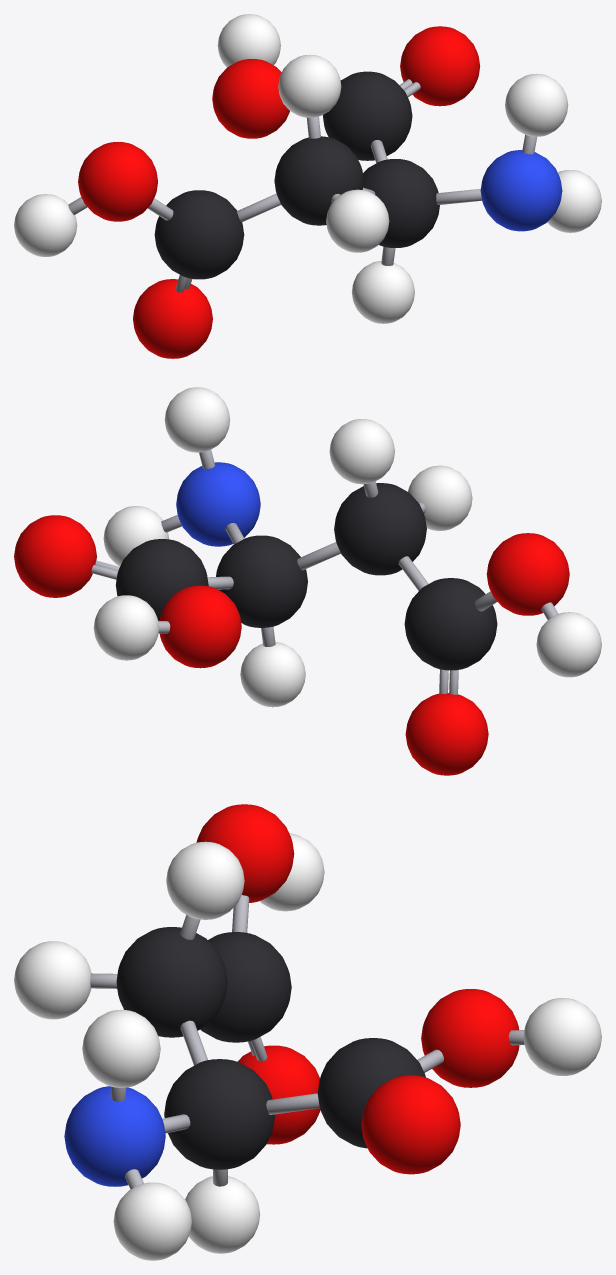
File: aspartic-acid.glb
The picture shows the model from 3 angles, top to bottom: view 1: azimuth 30°, elevation 25°; view 2: azimuth 150°, elevation 25°; view 3: azimuth 270°, elevation 25°; orthographic projection. The views are drawn at different scales.
Visible parts, largest first — view 1: C3, C6, C2, N0, O5, O4, O7, O8, C1, H13, H9, H12 (+6 smaller); view 2: C3, C2, C1, O4, O7, N0, O5, O8, C6, H15, H14, H12 (+5 smaller); view 3: C1, C2, O7, N0, O8, C3, C6, O5, H10, H12, H15, H9 (+6 smaller).
Part boxes in pixels (x1,y1,x2,y2): C3: (154, 190, 244, 279); C6: (323, 71, 412, 160); C2: (274, 136, 363, 225); N0: (480, 150, 562, 231); O5: (78, 142, 157, 221); O4: (133, 279, 212, 358); O7: (400, 26, 480, 106); O8: (212, 59, 289, 138); C1: (363, 159, 439, 247); H13: (326, 189, 389, 252); H9: (505, 73, 568, 136); H12: (278, 54, 341, 117); C3: (404, 578, 497, 670); C2: (334, 483, 426, 575); C1: (216, 535, 307, 627); O4: (405, 693, 488, 775); O7: (14, 515, 96, 597); N0: (176, 462, 260, 546); O5: (486, 533, 569, 615); O8: (159, 585, 241, 668); C6: (115, 539, 208, 620); H15: (93, 595, 159, 660); H14: (536, 612, 601, 677); H12: (329, 419, 394, 484); C1: (164, 1059, 275, 1169); C2: (116, 927, 227, 1037); O7: (361, 1075, 460, 1174); N0: (64, 1086, 165, 1186); O8: (421, 989, 519, 1087); C3: (200, 932, 291, 1042); C6: (317, 1038, 425, 1148); O5: (196, 804, 294, 902); H10: (113, 1182, 191, 1260); H12: (166, 841, 244, 919); H15: (523, 998, 601, 1075); H9: (82, 1009, 160, 1087).
Bounding box in the file's own units: 6.91 × 3.65 × 5.39.
